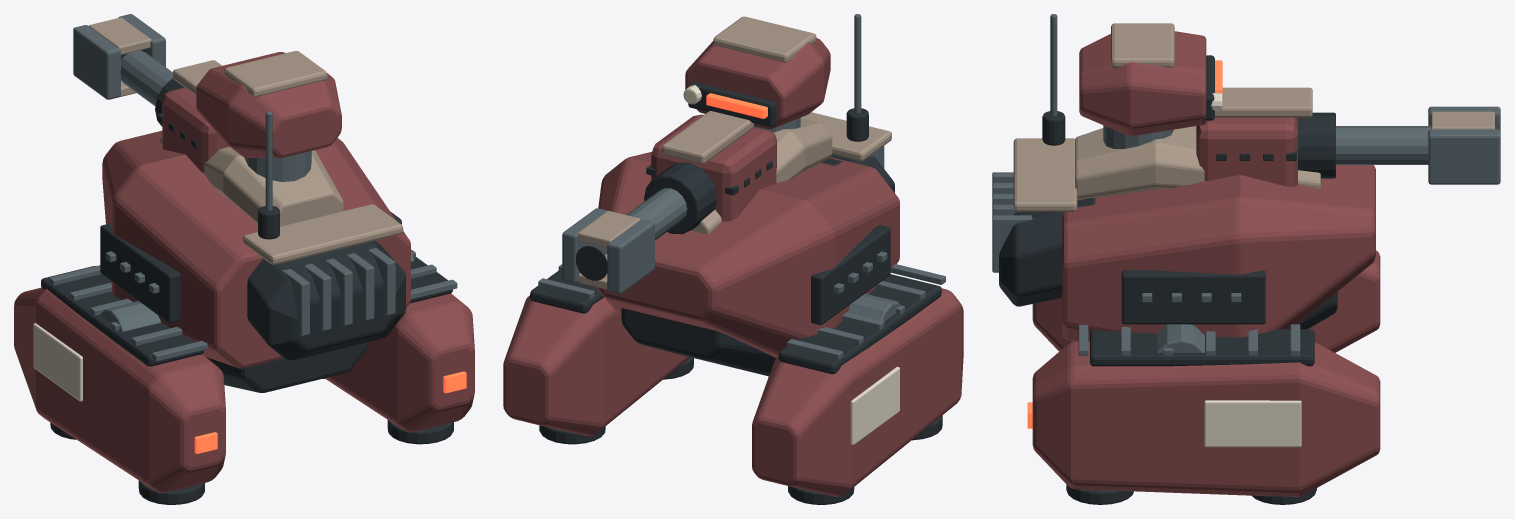
File: enemy_visual.glb
3 renders of one model, left to right at view 1: azimuth 30°, elevation 25°; view 2: azimuth 150°, elevation 25°; view 3: azimuth 270°, elevation 25°, orthographic. The views are drawn at different scales.
Visible parts, largest first — view 1: Chassis, PortPod, RearPack, StarboardPod, Sensor, Gun; view 2: Chassis, PortPod, StarboardPod, Gun, Sensor, RearPack; view 3: Chassis, StarboardPod, Gun, Sensor, RearPack, PortPod.
Boxes of the visible parts, x1=… form: Chassis: x1=100, y1=130, x2=413, y2=392; PortPod: x1=14, y1=265, x2=225, y2=504; RearPack: x1=243, y1=111, x2=405, y2=360; StarboardPod: x1=323, y1=249, x2=474, y2=444; Sensor: x1=196, y1=51, x2=341, y2=181; Gun: x1=73, y1=14, x2=229, y2=173; Chassis: x1=596, y1=118, x2=900, y2=376; PortPod: x1=752, y1=264, x2=963, y2=504; StarboardPod: x1=503, y1=264, x2=693, y2=444; Gun: x1=562, y1=111, x2=776, y2=293; Sensor: x1=683, y1=16, x2=830, y2=132; RearPack: x1=801, y1=14, x2=894, y2=192; Chassis: x1=1062, y1=126, x2=1375, y2=352; StarboardPod: x1=1027, y1=324, x2=1380, y2=504; Gun: x1=1196, y1=87, x2=1500, y2=186; Sensor: x1=1079, y1=23, x2=1222, y2=148; RearPack: x1=992, y1=14, x2=1095, y2=306; PortPod: x1=1032, y1=250, x2=1380, y2=352.
Size of the model in its own units: 0.931 by 1.02 by 1.2.
